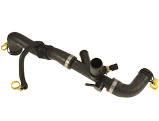radiator_hose: (7, 32, 153, 98)
